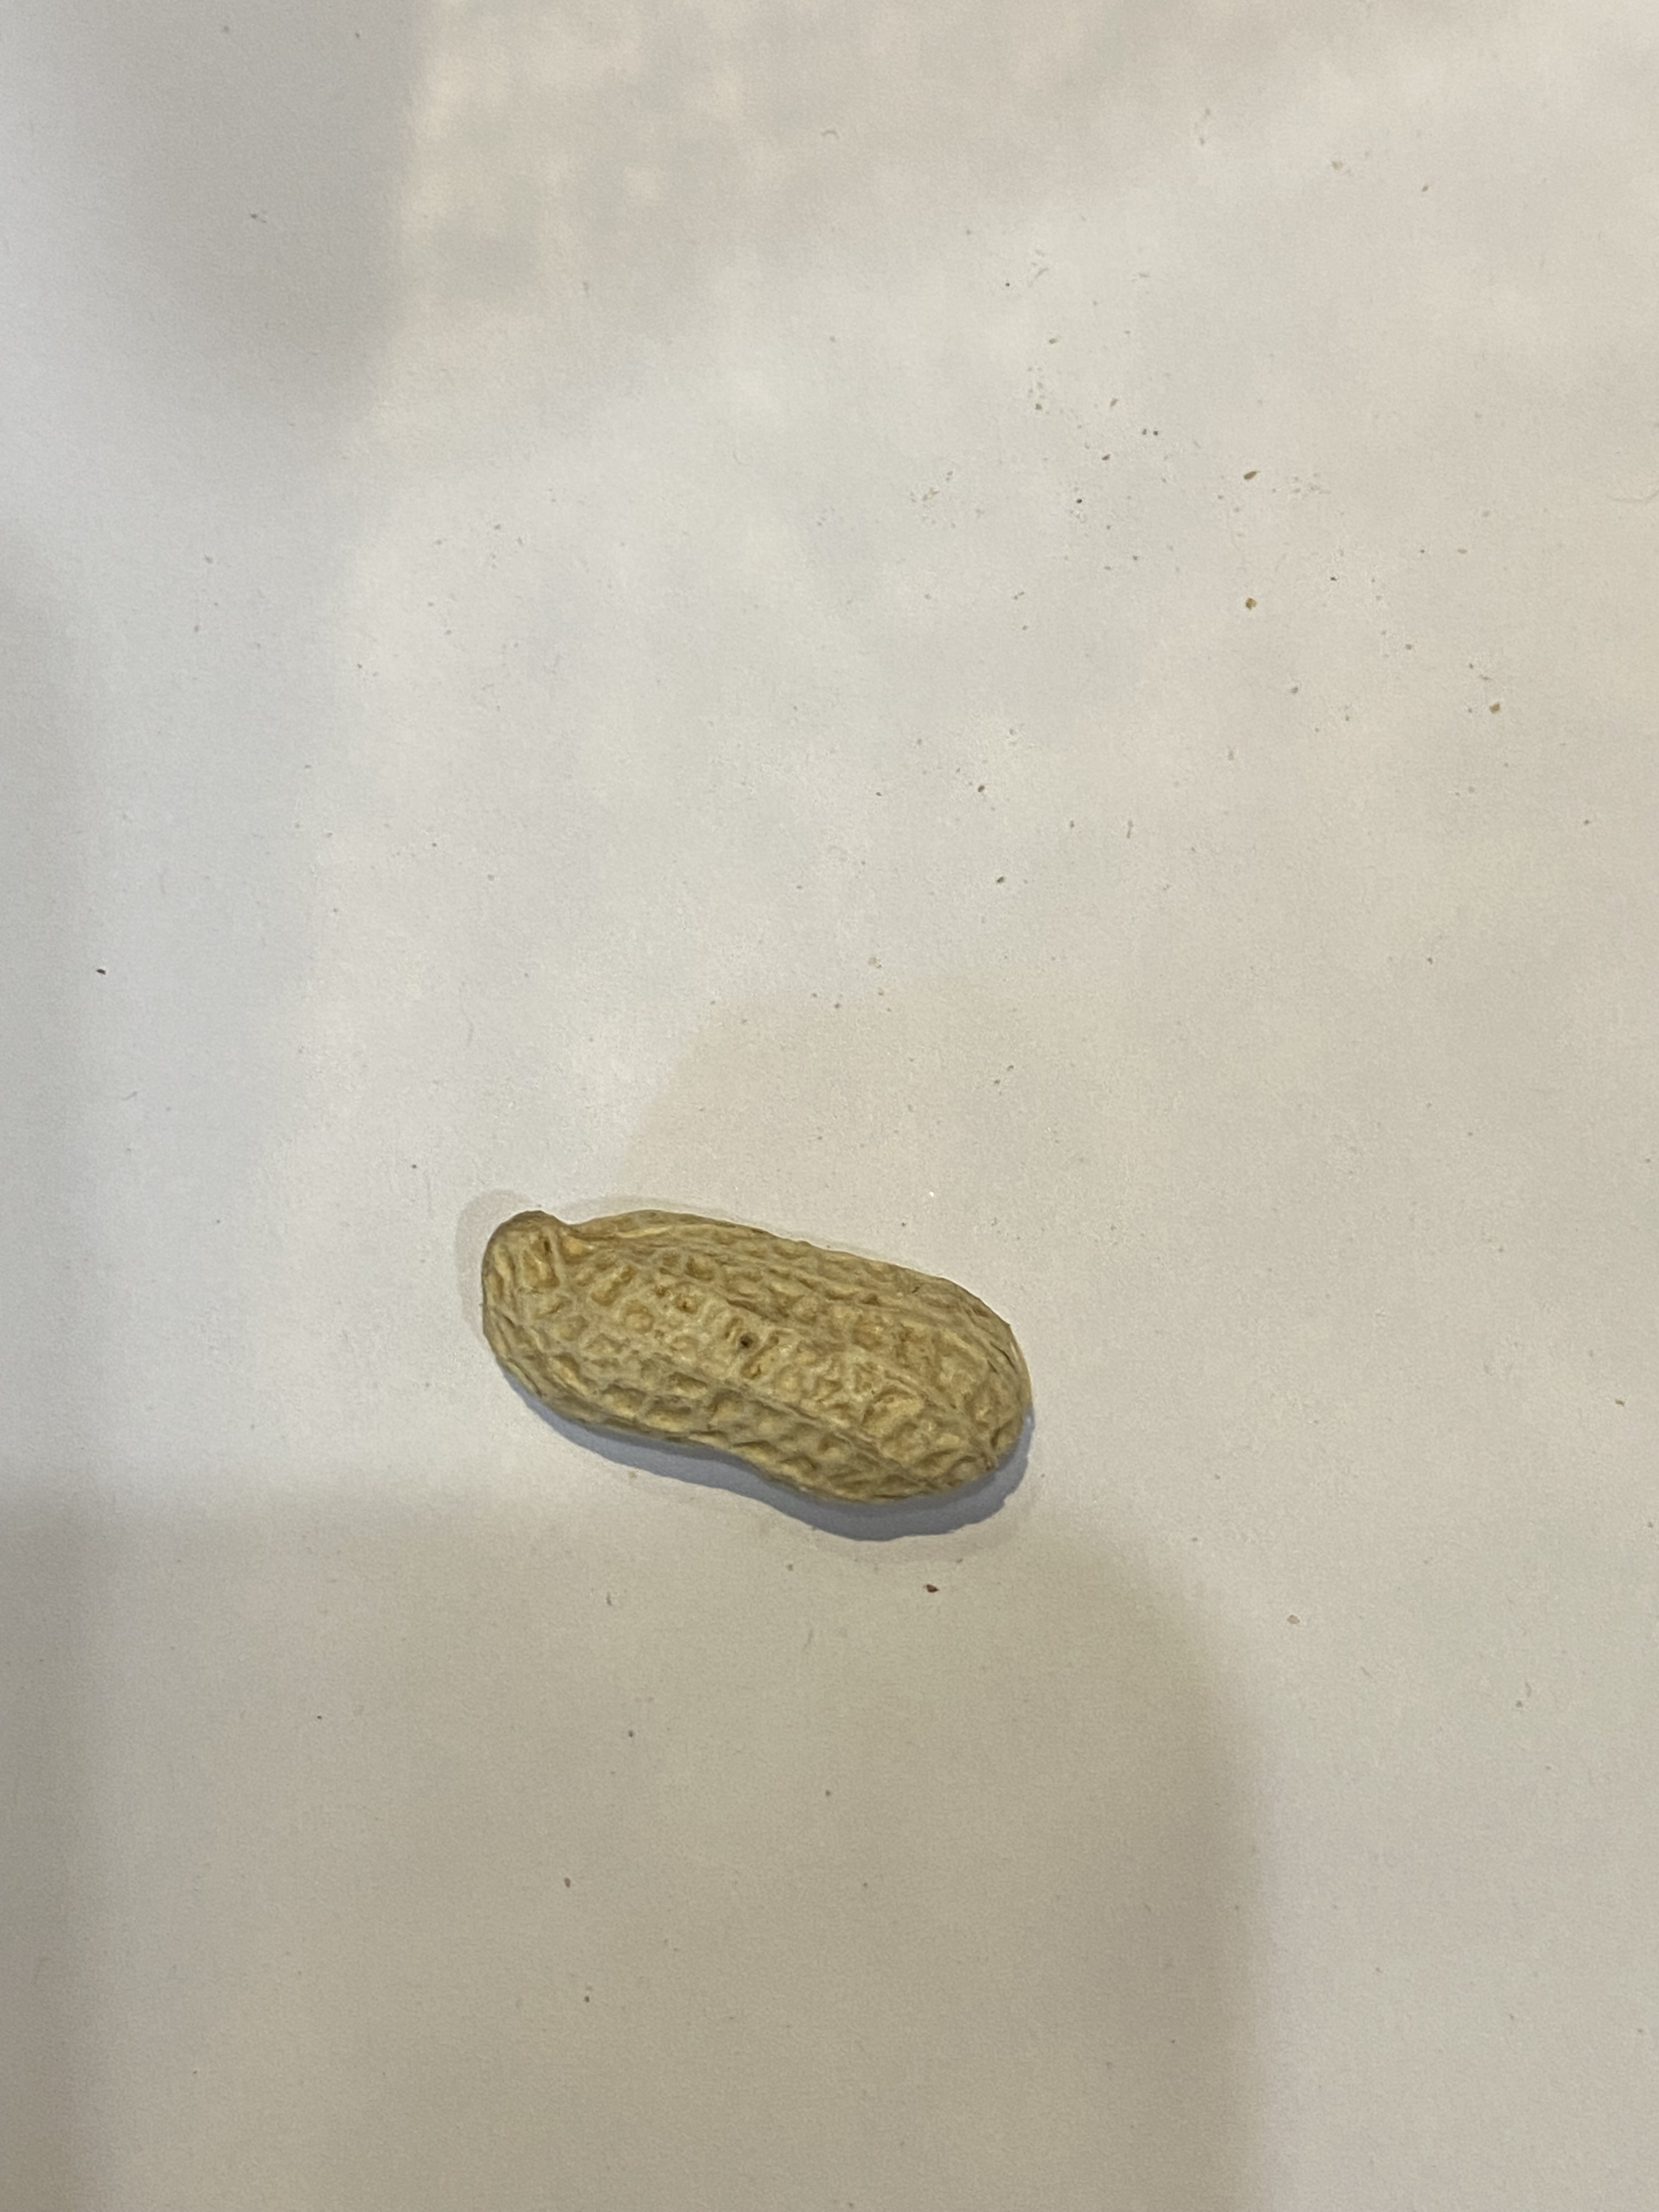kacang2: (471, 1162, 1061, 1510)
